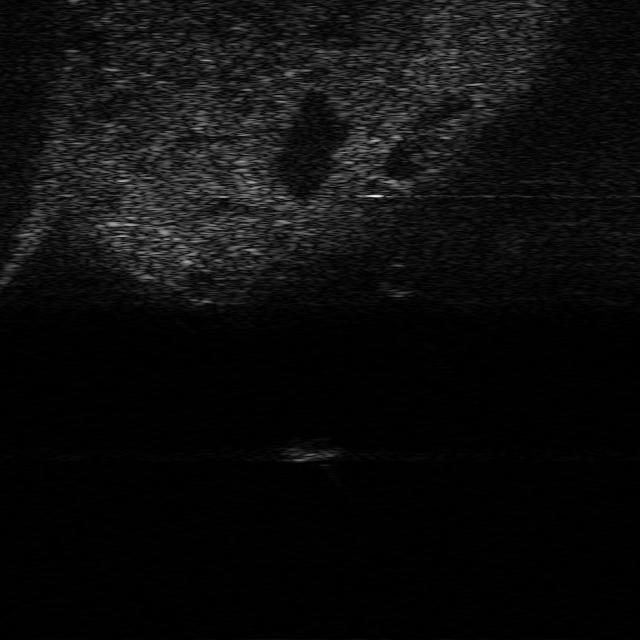ball: (372, 262, 418, 298)
cube: (269, 439, 341, 463)
